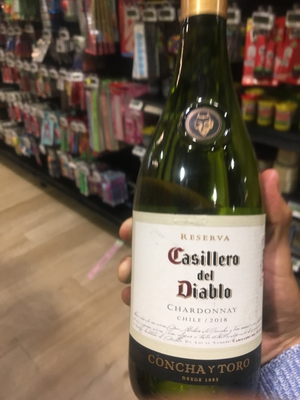casillero del diablo chardonnay: (123, 10, 272, 400)
